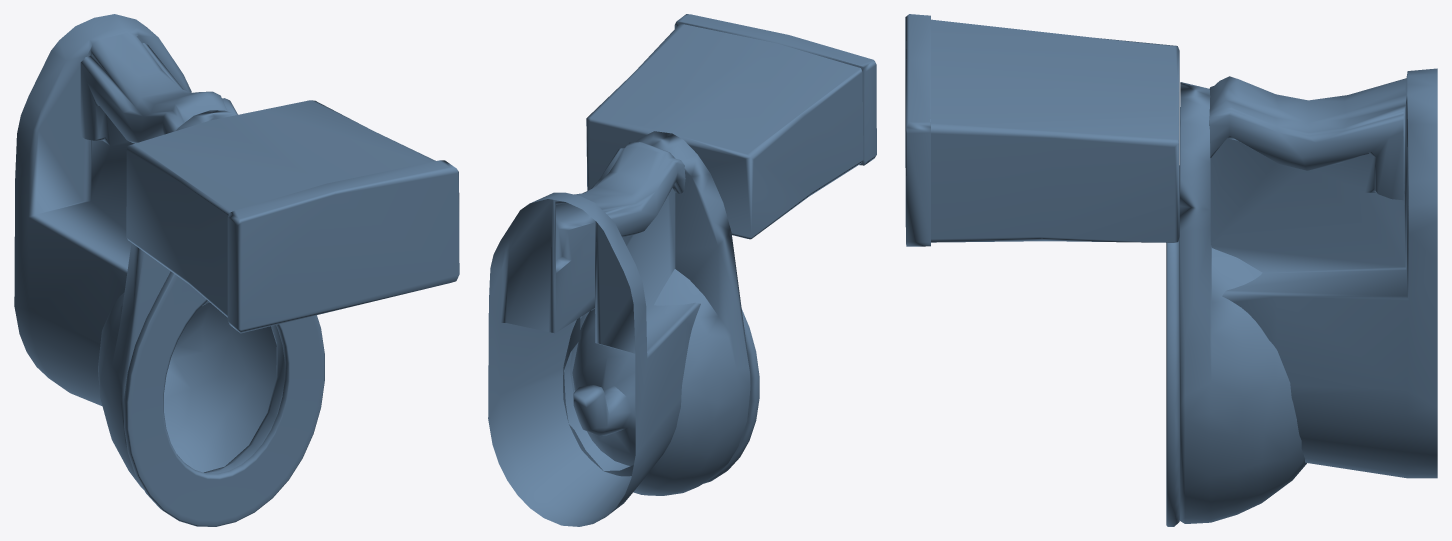
File: Fp_401__Toiletbody.obj
The picture shows the model from 3 angles, left to right: view 1: azimuth 30°, elevation 25°; view 2: azimuth 150°, elevation 25°; view 3: azimuth 270°, elevation 25°; orthographic projection. The views are drawn at different scales.
Visible parts, largest first — view 1: Fp_401__Toiletbody; view 2: Fp_401__Toiletbody; view 3: Fp_401__Toiletbody.
Boxes of the visible parts, x1,y1,x2,y2 form: Fp_401__Toiletbody: (14,14,459,526); Fp_401__Toiletbody: (488,14,876,526); Fp_401__Toiletbody: (905,14,1437,526).
Bounding box in the file's own units: 0.5295 × 0.9729 × 1.04.
